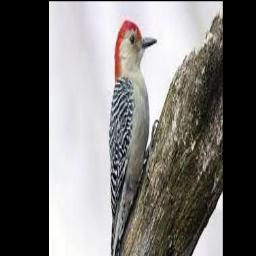Woodpecker: (100, 20, 157, 256)
